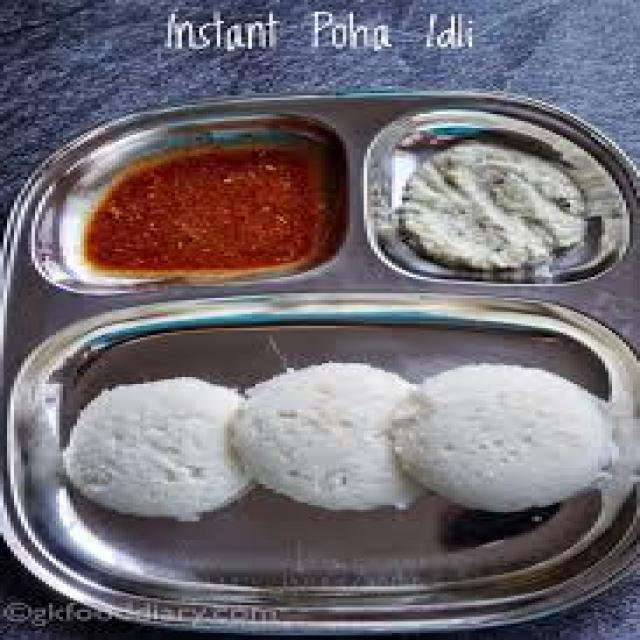Wet Waste: (234, 356, 462, 524), (66, 370, 280, 519), (384, 358, 602, 503), (388, 137, 602, 277)
